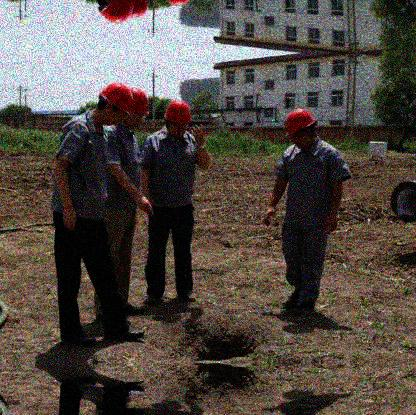helmet: (92, 81, 133, 129), (283, 109, 321, 152), (121, 86, 152, 134), (163, 100, 192, 141)
